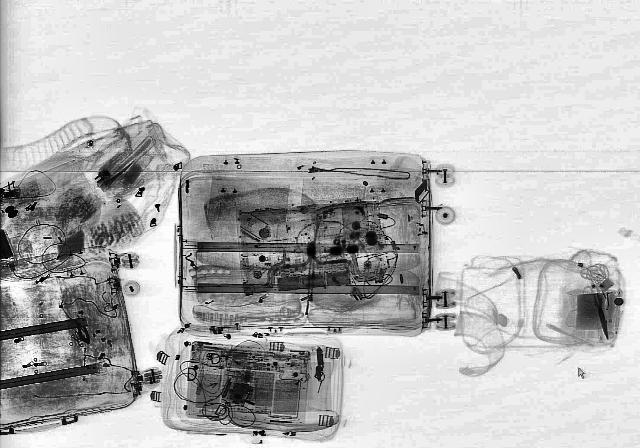Knife: (590, 293, 614, 340)
